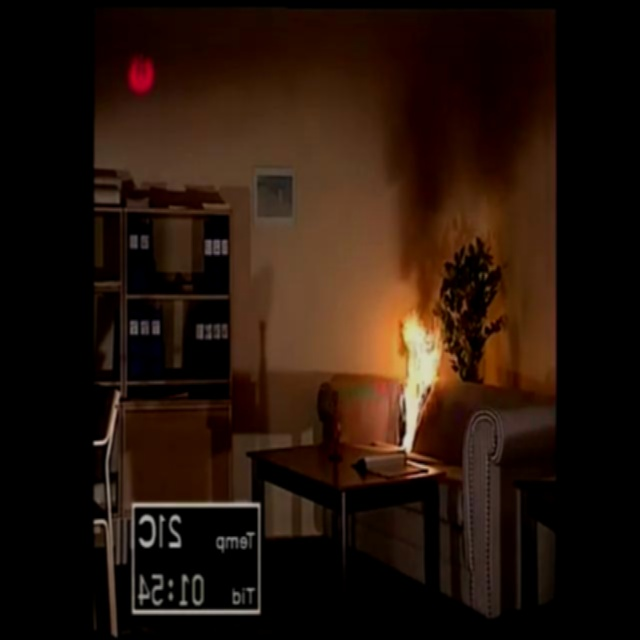fire: (386, 307, 442, 470)
